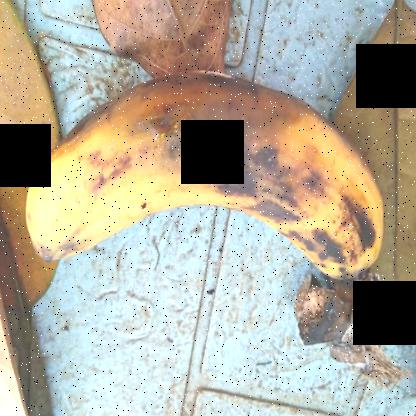rotten: (18, 51, 388, 290)
